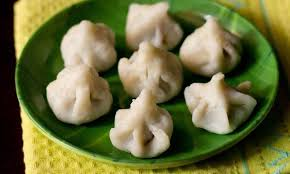modak: (103, 39, 196, 102), (48, 63, 117, 126), (113, 93, 177, 157), (183, 79, 253, 136), (187, 19, 253, 77), (63, 24, 117, 70)
